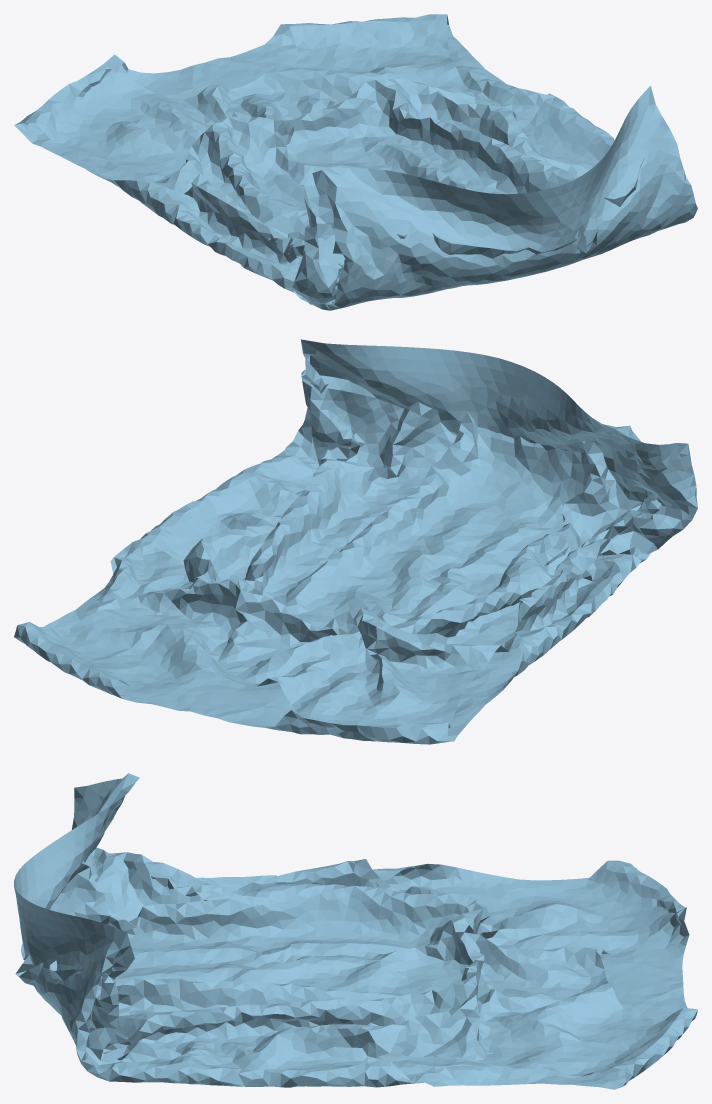
The model's file is frame_07.glb.
3 views of the same model, one above another, from view 1: azimuth 30°, elevation 25°; view 2: azimuth 150°, elevation 25°; view 3: azimuth 270°, elevation 25° (orthographic). The views are drawn at different scales.
Parts seen in each view (by area): view 1: frame_07.obj; view 2: frame_07.obj; view 3: frame_07.obj.
Boxes of the visible parts, x1,y1,x2,y2 form: frame_07.obj: (14,14,697,310); frame_07.obj: (14,339,697,744); frame_07.obj: (14,773,697,1089).
Bounding box in the file's own units: 1.24 × 0.3801 × 1.64.
